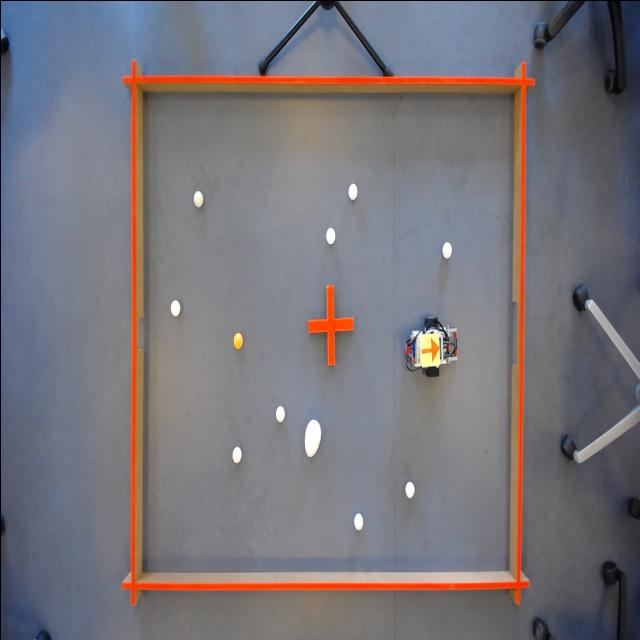cross: (306, 282, 355, 367)
egg: (302, 416, 322, 461)
orange_ball: (232, 328, 244, 352)
robot: (418, 326, 440, 368)
white_ball: (344, 178, 358, 202), (190, 186, 204, 210), (168, 296, 182, 320), (440, 236, 452, 262), (404, 476, 416, 502), (351, 509, 364, 533), (324, 223, 336, 246), (230, 442, 242, 464), (274, 400, 284, 426)
